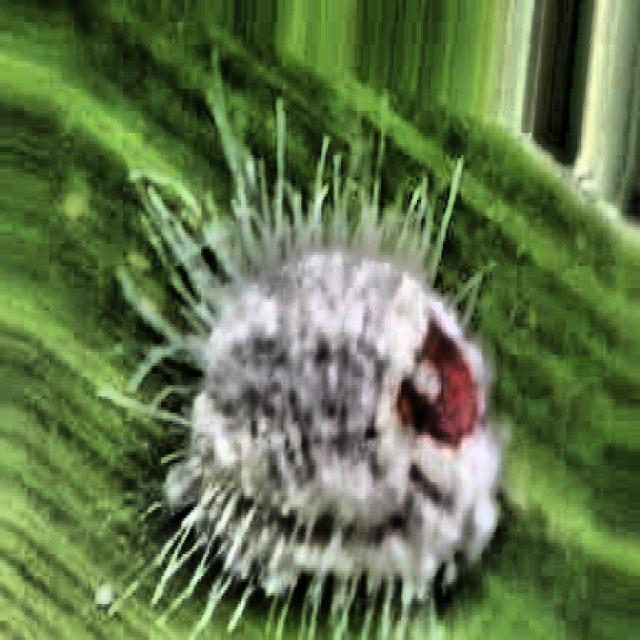Mealy-bug: (90, 96, 530, 636)
